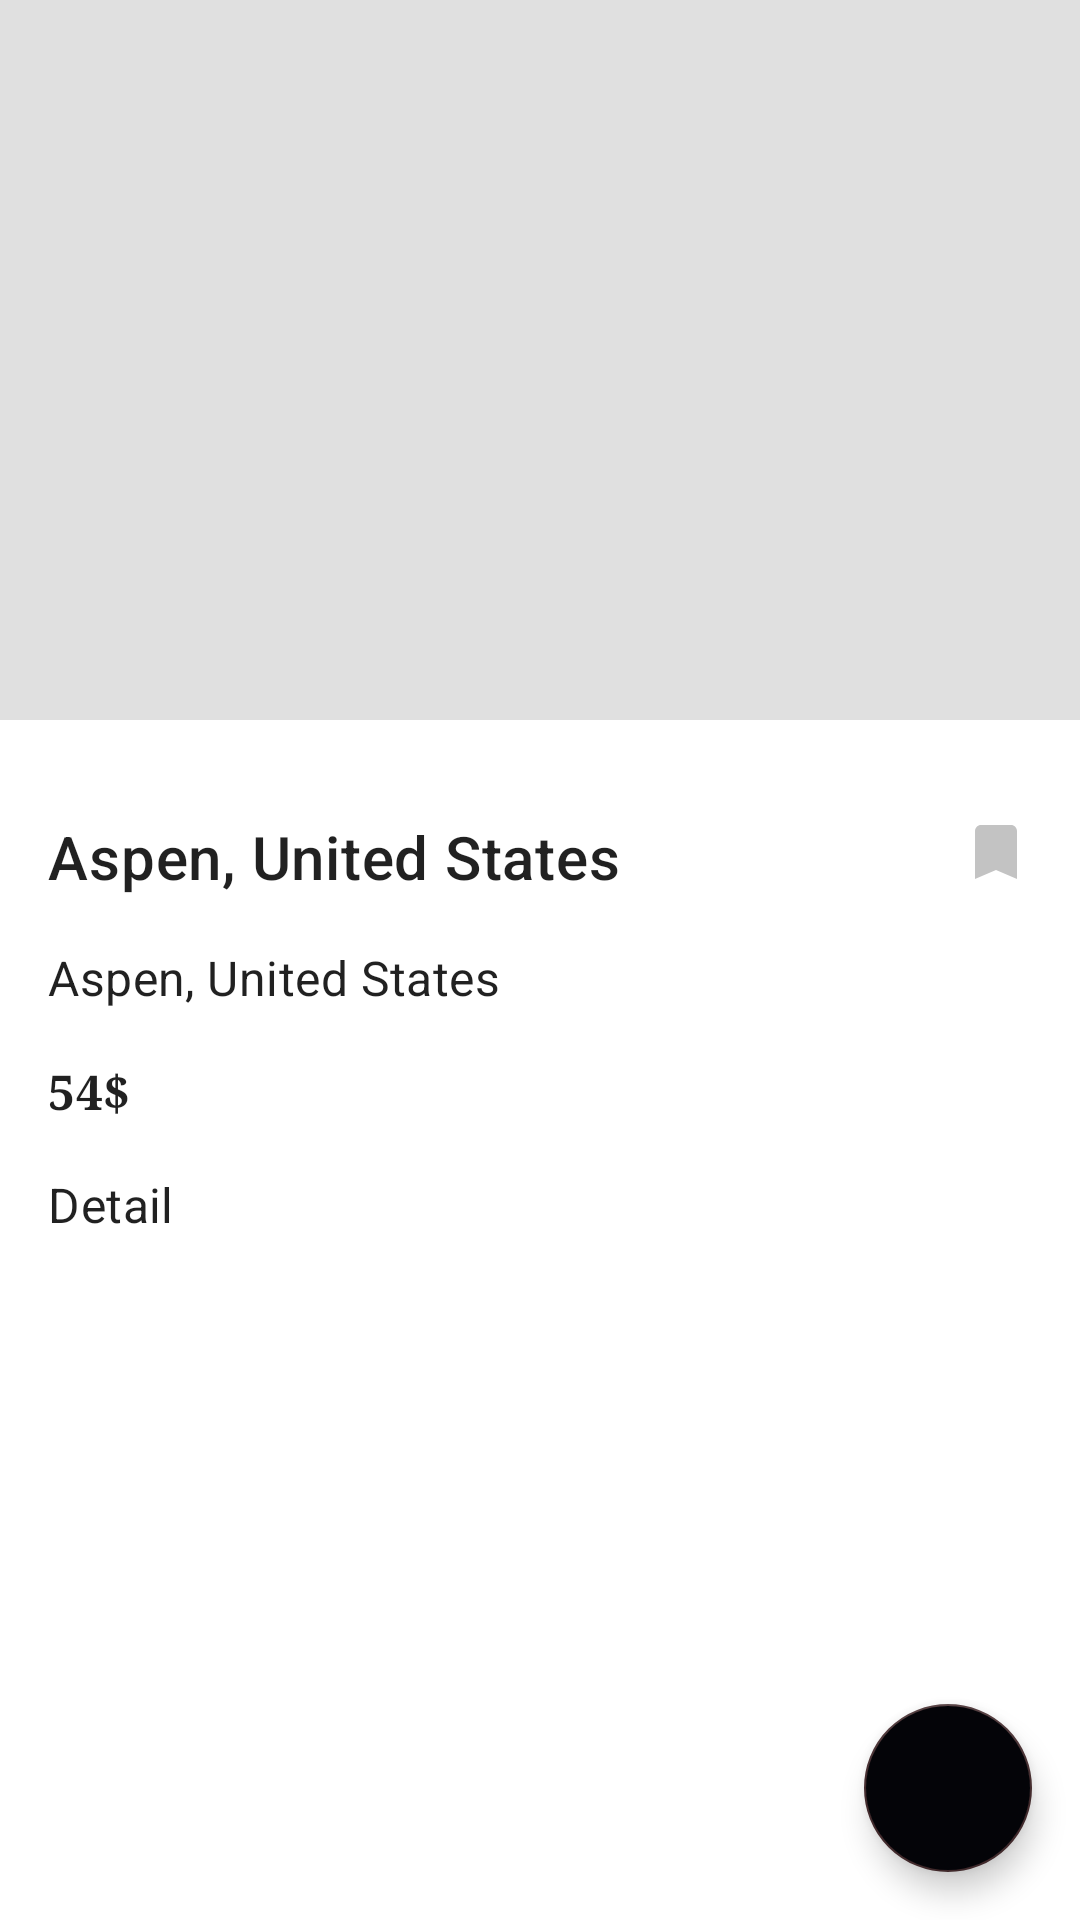

Locate icon controls on the screen. Image size 1080px x 1920px, boxes as bbox(x1, y1, x2, y2).
saved trip: bbox(975, 825, 1017, 879)
